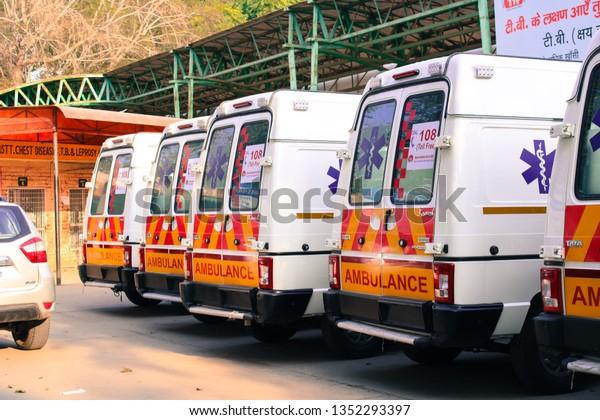ER: (322, 55, 581, 352), (185, 90, 361, 341), (538, 28, 600, 380), (138, 115, 199, 304), (80, 131, 149, 297)
